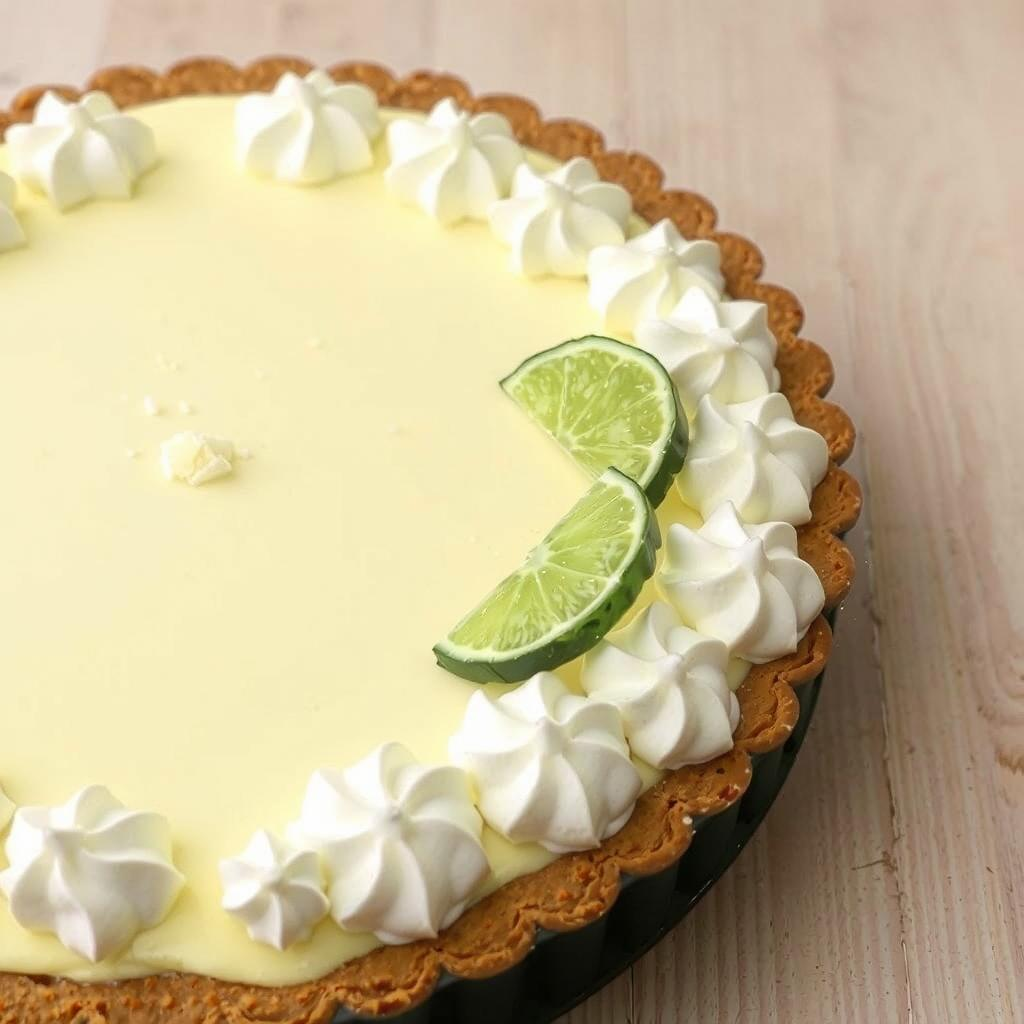pie: (0, 44, 869, 1024)
